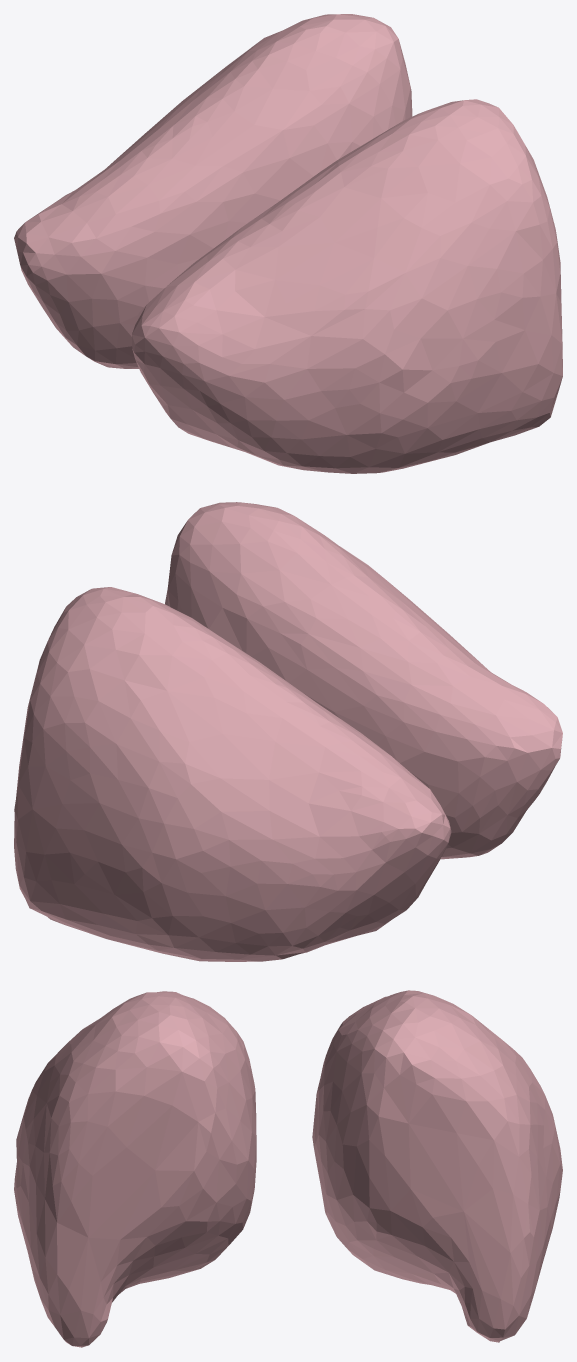
The picture shows the model from 3 angles, top to bottom: view 1: azimuth 30°, elevation 25°; view 2: azimuth 150°, elevation 25°; view 3: azimuth 270°, elevation 25°; orthographic projection. The views are drawn at different scales.
Visible parts, largest first — view 1: 362.obj; view 2: 362.obj; view 3: 362.obj.
Part boxes in pixels (x1,y1,x2,y2): 362.obj: (14, 14, 562, 473); 362.obj: (14, 502, 562, 961); 362.obj: (14, 990, 562, 1347).
Bounding box in the file's own units: 1475 × 1135 × 1736.
